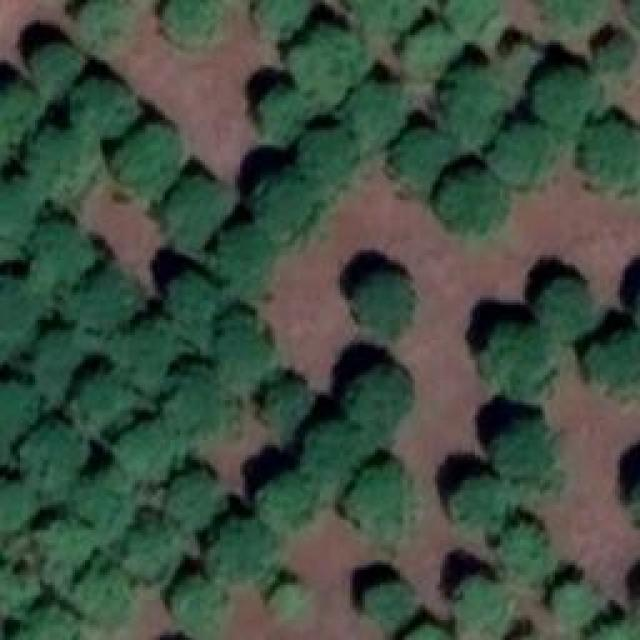Tree: (480, 315, 558, 394), (205, 317, 280, 391), (490, 415, 562, 488), (200, 510, 275, 579), (20, 420, 91, 491), (345, 465, 413, 538), (433, 165, 507, 232), (33, 510, 102, 581), (303, 420, 378, 485), (160, 370, 233, 435), (158, 178, 227, 246), (73, 362, 139, 433), (580, 118, 640, 195), (440, 68, 508, 134), (30, 223, 98, 288), (70, 265, 134, 334), (30, 125, 93, 195), (483, 117, 545, 188), (350, 368, 413, 437), (361, 570, 424, 639), (208, 235, 277, 297), (75, 558, 137, 627), (538, 275, 599, 344), (118, 120, 178, 190), (348, 270, 419, 329), (530, 65, 593, 131), (255, 167, 318, 232), (70, 473, 133, 538), (290, 30, 358, 90), (253, 468, 317, 531), (108, 320, 177, 378), (0, 270, 43, 362), (30, 330, 91, 393), (163, 265, 223, 329), (118, 425, 178, 489), (160, 570, 227, 627), (72, 78, 136, 137), (167, 475, 226, 538), (253, 378, 311, 442), (505, 523, 562, 588), (454, 570, 514, 631), (118, 520, 181, 577), (453, 475, 508, 539), (72, 0, 138, 52), (155, 0, 223, 49), (340, 80, 397, 138), (298, 125, 356, 179), (595, 330, 640, 398), (30, 43, 85, 98), (0, 80, 37, 161), (257, 82, 310, 136), (403, 20, 455, 75), (257, 570, 310, 623), (0, 176, 35, 256), (343, 0, 419, 36), (547, 575, 598, 628), (0, 380, 34, 456), (0, 470, 38, 538), (257, 0, 314, 42), (398, 133, 445, 182), (548, 0, 618, 30), (593, 27, 637, 73), (450, 0, 503, 31), (588, 610, 638, 639), (508, 43, 543, 80)
